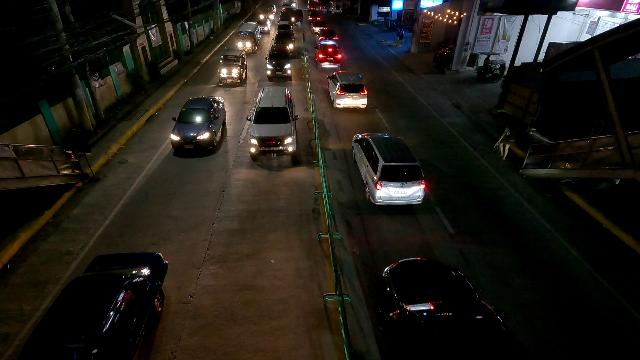car: (12, 251, 171, 359), (376, 257, 509, 353), (350, 131, 426, 211), (246, 86, 299, 161), (167, 96, 226, 156), (327, 70, 368, 110), (265, 44, 293, 80), (314, 42, 342, 70), (272, 28, 296, 54), (315, 29, 339, 46), (281, 10, 305, 25), (310, 19, 329, 35), (253, 18, 270, 35), (308, 10, 321, 25), (277, 21, 292, 33)
jeepney: (218, 49, 248, 82), (235, 21, 260, 53)
